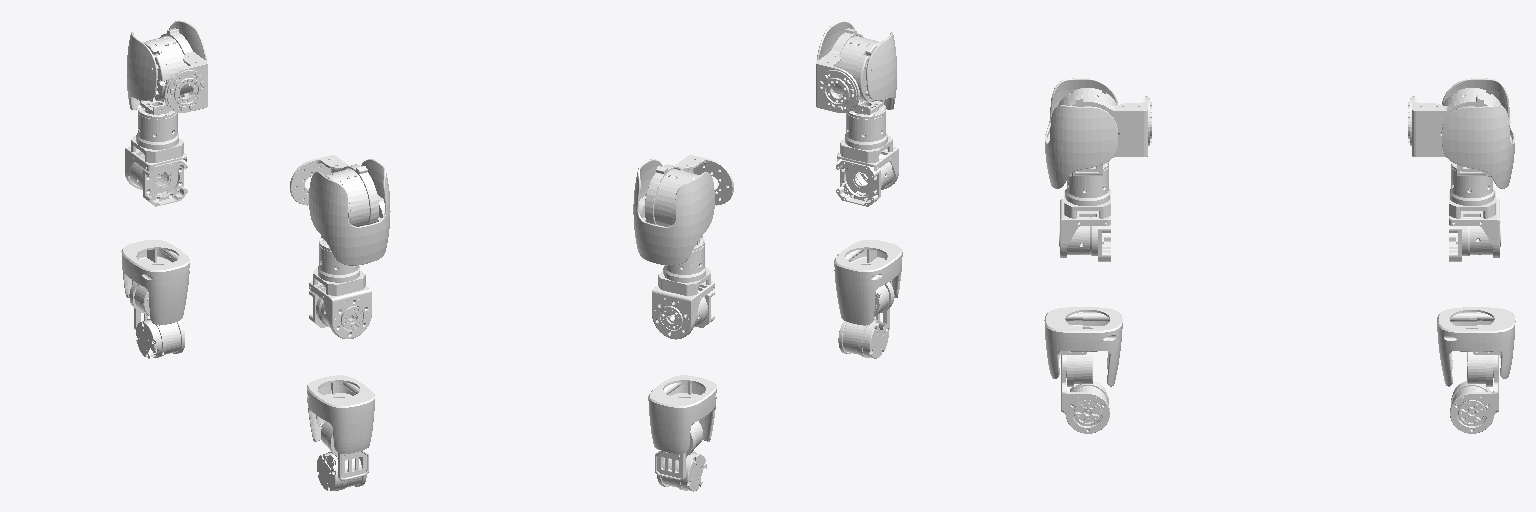
robot.urdf — biped_v3:
<?xml version='1.0' encoding='UTF-8'?>
<!-- This URDF was automatically created by SolidWorks to URDF Exporter! Originally created by [author] ([email redacted]) 
     Commit Version: 1.6.0-4-g7f85cfe  Build Version: 1.6.7995.38578
     For more information, please see http://wiki.ros.org/sw_urdf_exporter -->
<robot name="biped_v3">
  <link name="torso">
    <inertial>
      <origin xyz="-0.00699293960383802 0.00155633220268026 0.152865943474551" rpy="0 0 0"/>
      <mass value="7.71324827879796"/>
      <inertia ixx="0.0426865291658434" ixy="1.85724164379468E-06" ixz="0.0010941107421191" iyy="0.020412125396821" iyz="-3.14875771284261E-06" izz="0.0372747742844986"/>
    </inertial>
    <visual>
      <origin xyz="0 0 0" rpy="0 0 0"/>
      <geometry>
        <mesh filename="../meshes/base_link.obj"/>
      </geometry>
      <material name="">
        <color rgba="0.862745098039216 0.933333333333333 0.929411764705882 1"/>
      </material>
    </visual>
  </link>
 
  <link
    name="l_arm_pitch">
    <inertial>
      <origin
        xyz="0.0146835191418715 -0.0166604103758634 -6.82857133371129E-05"
        rpy="0 0 0" />
      <mass
        value="0.165847319965906" />
      <inertia
        ixx="0.0002674432873971"
        ixy="-2.5654089149164E-05"
        ixz="-1.72966133127553E-07"
        iyy="0.000125796784291983"
        iyz="-1.66717296343013E-06"
        izz="0.000196186976742156" />
    </inertial>
    <visual>
      <origin
        xyz="0 0 0"
        rpy="0 0 0" />
      <geometry>
        <mesh
          filename="../meshes/l_arm_pitch.obj" />
      </geometry>
      <material
        name="">
        <color
          rgba="1 1 1 1" />
      </material>
    </visual>
    
  </link>
  <joint
    name="l_arm_pitch"
    type="continuous">
    <origin
      xyz="-0.0175475823124921 0.254700000000031 0.324500000000024"
      rpy="0 0 0" />
    <parent
      link="torso" />
    <child
      link="l_arm_pitch" />
    <axis
      xyz="0 1 0" />
    <limit lower="-3.14" upper="0.52" effort="100" velocity="35" />

  </joint>
  <transmission type="SimpleTransmission">
    <joint name="l_arm_pitch" />
    <actuator name="l_arm_pitch_motor" />
  </transmission>

  <link
    name="l_arm_roll">
    <inertial>
      <origin
        xyz="0.0222872651779299 0.0156945544195473 -0.0202262244341484"
        rpy="0 0 0" />
      <mass
        value="0.141426581413056" />
      <inertia
        ixx="0.000160370067223081"
        ixy="6.30811840859269E-06"
        ixz="-1.13259246453495E-05"
        iyy="0.000262365778589962"
        iyz="3.14941259087024E-05"
        izz="0.00023601403628197" />
    </inertial>
    <visual>
      <origin
        xyz="0 0 0"
        rpy="0 0 0" />
      <geometry>
        <mesh
          filename="../meshes/l_arm_roll.obj" />
      </geometry>
      <material
        name="">
        <color
          rgba="1 1 1 1" />
      </material>
    </visual>
   
  </link>
  <joint
    name="l_arm_roll"
    type="continuous">
    <origin
      xyz="0 0 0"
      rpy="0 0 0" />
    <parent
      link="l_arm_pitch" />
    <child
      link="l_arm_roll" />
    <axis
      xyz="1 0 0" />
        <limit lower="-0.523" upper="2.09" effort="100" velocity="35" />

  </joint>
  <transmission type="SimpleTransmission">
    <joint name="l_arm_roll" />
    <actuator name="l_arm_roll_motor" />
  </transmission>

  <link
    name="l_arm_yaw">
    <inertial>
      <origin
        xyz="6.16940440451783E-05 0.00525815062784063 -0.128821944854616"
        rpy="0 0 0" />
      <mass
        value="0.147794102819133" />
      <inertia
        ixx="7.00575957554699E-05"
        ixy="-6.81658291272877E-10"
        ixz="2.69427050743199E-10"
        iyy="8.53612265336777E-05"
        iyz="6.95899873075699E-06"
        izz="8.82223899453285E-05" />
    </inertial>
    <visual>
      <origin
        xyz="0 0 0"
        rpy="0 0 0" />
      <geometry>
        <mesh
          filename="../meshes/l_arm_yaw.obj" />
      </geometry>
      <material
        name="">
        <color
          rgba="1 1 1 1" />
      </material>
    </visual>
    
  </link>
  <joint
    name="l_arm_yaw"
    type="continuous">
    <origin
      xyz="0 0 0"
      rpy="0 0 0" />
    <parent
      link="l_arm_roll" />
    <child
      link="l_arm_yaw" />
    <axis
      xyz="0 0 1" />
        <limit lower="-1.57" upper="1.57" effort="100" velocity="35" />

  </joint>
  <transmission type="SimpleTransmission">
    <joint name="l_arm_yaw" />
    <actuator name="l_arm_yaw_motor" />
  </transmission>

  <link
    name="l_forearm_pitch">
    <inertial>
      <origin
        xyz="-1.4281929799409E-05 0.00938313949959718 -0.0522687552263489"
        rpy="0 0 0" />
      <mass
        value="0.170164726102009" />
      <inertia
        ixx="9.558084476069E-05"
        ixy="-4.53863490387433E-08"
        ixz="5.39342118513253E-08"
        iyy="0.000126326373178391"
        iyz="-9.58160032696958E-06"
        izz="0.000121032474884238" />
    </inertial>
    <visual>
      <origin
        xyz="0 0 0"
        rpy="0 0 0" />
      <geometry>
        <mesh
          filename="../meshes/l_forearm_pitch.obj" />
      </geometry>
      <material
        name="">
        <color
          rgba="1 1 1 1" />
      </material>
    </visual>
    
  </link>
  <joint
    name="l_forearm_pitch"
    type="continuous">
    <origin
      xyz="0 0 -0.1636"
      rpy="0 0 0" />
    <parent
      link="l_arm_yaw" />
    <child
      link="l_forearm_pitch" />
    <axis
      xyz="0 1 0" />
          <limit lower="-1.57" upper="0.0" effort="100" velocity="35" />

  </joint>
  <transmission type="SimpleTransmission">
    <joint name="l_forearm_pitch" />
    <actuator name="l_forearm_pitch_motor" />
  </transmission>

  <link
    name="l_hand_yaw">
    <inertial>
      <origin
        xyz="0.000113133463122583 0.00969227839919062 0.0817960696431681"
        rpy="0 0 0" />
      <mass
        value="0.157336288737043" />
      <inertia
        ixx="7.64923984145487E-05"
        ixy="8.51098127601464E-09"
        ixz="-1.4070355859132E-08"
        iyy="0.000122231132554914"
        iyz="1.11226968994633E-06"
        izz="8.44935061342021E-05" />
    </inertial>
    <visual>
      <origin
        xyz="0 0 0"
        rpy="0 0 0" />
      <geometry>
        <mesh
          filename="../meshes/l_hand_yaw.obj" />
      </geometry>
      <material
        name="">
        <color
          rgba="1 1 1 1" />
      </material>
    </visual>
   
  </link>
  <joint
    name="l_hand_yaw"
    type="continuous">
    <origin
      xyz="0 0 -0.191050000125729"
      rpy="0 0 0" />
    <parent
      link="l_forearm_pitch" />
    <child
      link="l_hand_yaw" />
    <axis
      xyz="0 0 1" />
          <limit lower="-1.57" upper="1.57" effort="100" velocity="35" />

  </joint>
  <transmission type="SimpleTransmission">
    <joint name="l_hand_yaw" />
    <actuator name="l_hand_yaw_motor" />
  </transmission>

  <link
    name="l_hand_pitch">
    <inertial>
      <origin
        xyz="0.00810609786663821 0.00489663150092601 0.00622488608908427"
        rpy="0 0 0" />
      <mass
        value="0.0853891779246004" />
      <inertia
        ixx="4.77321490368476E-05"
        ixy="3.05261917457107E-06"
        ixz="4.77827164947654E-06"
        iyy="3.43814769749139E-05"
        iyz="-4.59311499587155E-06"
        izz="2.49955336560135E-05" />
    </inertial>
    <visual>
      <origin
        xyz="0 0 0"
        rpy="0 0 0" />
      <geometry>
        <mesh
          filename="../meshes/l_hand_pitch.obj" />
      </geometry>
      <material
        name="">
        <color
          rgba="1 1 1 1" />
      </material>
    </visual>
    
  </link>
  <joint
    name="l_hand_pitch"
    type="continuous">
    <origin
      xyz="0 0 0"
      rpy="0 0 0" />
    <parent
      link="l_hand_yaw" />
    <child
      link="l_hand_pitch" />
    <axis
      xyz="0 1 0" />
          <limit lower="-1.57" upper="1.57" effort="100" velocity="35" />

  </joint>
  <transmission type="SimpleTransmission">
    <joint name="l_hand_pitch" />
    <actuator name="l_hand_pitch_motor" />
  </transmission>

  <link
    name="l_hand_roll">
    <inertial>
      <origin
        xyz="0.0055750097939089 0.00647363667890594 -0.0826245715087526"
        rpy="0 0 0" />
      <mass
        value="0.505839717252105" />
      <inertia
        ixx="8.04371746531483E-05"
        ixy="2.770174858381E-07"
        ixz="-4.63354764745673E-06"
        iyy="0.000116536814280971"
        iyz="1.04534418501281E-05"
        izz="0.000111690600253046" />
    </inertial>
    <visual>
      <origin
        xyz="0 0 0"
        rpy="0 0 0" />
      <geometry>
        <mesh
          filename="../meshes/l_hand_roll.obj" />
      </geometry>
      <material
        name="">
        <color
          rgba="1 1 1 1" />
      </material>
    </visual>
   
  </link>
  <joint
    name="l_hand_roll"
    type="continuous">
    <origin
      xyz="0 0 0"
      rpy="0 0 0" />
    <parent
      link="l_hand_pitch" />
    <child
      link="l_hand_roll" />
    <axis
      xyz="1 0 0" />
          <limit lower="-1.57" upper="1.57" effort="100" velocity="35" />

  </joint>
  <transmission type="SimpleTransmission">
    <joint name="l_hand_roll" />
    <actuator name="l_hand_roll_motor" />
  </transmission>

  <link
    name="r_arm_pitch">
    <inertial>
      <origin
        xyz="0.0146743511434554 0.0168298008224051 -8.16711977456031E-05"
        rpy="0 0 0" />
      <mass
        value="0.165729466195453" />
      <inertia
        ixx="0.000267364314112701"
        ixy="2.58822573731612E-05"
        ixz="-1.74450019197634E-07"
        iyy="0.000125724274127356"
        iyz="1.71810516637517E-06"
        izz="0.000196179895851995" />
    </inertial>
    <visual>
      <origin
        xyz="0 0 0"
        rpy="0 0 0" />
      <geometry>
        <mesh
          filename="../meshes/r_arm_pitch.obj" />
      </geometry>
      <material
        name="">
        <color
          rgba="1 1 1 1" />
      </material>
    </visual>
   
  </link>
  <joint
    name="r_arm_pitch"
    type="continuous">
    <origin
      xyz="-0.0175475823119764 -0.254700000000003 0.324500000000024"
      rpy="0 0 0" />
    <parent
      link="torso" />
    <child
      link="r_arm_pitch" />
    <axis
      xyz="0 1 0" />
          <limit lower="-3.14" upper="0.52" effort="100" velocity="35" />

  </joint>
  <transmission type="SimpleTransmission">
    <joint name="r_arm_pitch" />
    <actuator name="r_arm_pitch_motor" />
  </transmission>

  <link
    name="r_arm_roll">
    <inertial>
      <origin
        xyz="0.0223009070030529 -0.0156950170482436 -0.0202307747650334"
        rpy="0 0 0" />
      <mass
        value="0.141493827304592" />
      <inertia
        ixx="0.00016058853411588"
        ixy="-6.25733649402466E-06"
        ixz="-1.13236198708706E-05"
        iyy="0.000262566981542989"
        iyz="-3.14930415013909E-05"
        izz="0.000236151535262186" />
    </inertial>
    <visual>
      <origin
        xyz="0 0 0"
        rpy="0 0 0" />
      <geometry>
        <mesh
          filename="../meshes/r_arm_roll.obj" />
      </geometry>
      <material
        name="">
        <color
          rgba="1 1 1 1" />
      </material>
    </visual>
   
  </link>
  <joint
    name="r_arm_roll"
    type="continuous">
    <origin
      xyz="0 0 0"
      rpy="0 0 0" />
    <parent
      link="r_arm_pitch" />
    <child
      link="r_arm_roll" />
    <axis
      xyz="1 0 0" />
          <limit lower="-2.09" upper="0.523" effort="100" velocity="35" />

  </joint>
  <transmission type="SimpleTransmission">
    <joint name="r_arm_roll" />
    <actuator name="r_arm_roll_motor" />
  </transmission>

  <link
    name="r_arm_yaw">
    <inertial>
      <origin
        xyz="-4.82749435400213E-05 -0.0052581506278393 -0.128821944854617"
        rpy="0 0 0" />
      <mass
        value="0.147794102819133" />
      <inertia
        ixx="7.00575957554697E-05"
        ixy="-6.81658260938682E-10"
        ixz="-2.69427064597612E-10"
        iyy="8.53612265336775E-05"
        iyz="-6.95899873075696E-06"
        izz="8.82223899453284E-05" />
    </inertial>
    <visual>
      <origin
        xyz="0 0 0"
        rpy="0 0 0" />
      <geometry>
        <mesh
          filename="../meshes/r_arm_yaw.obj" />
      </geometry>
      <material
        name="">
        <color
          rgba="1 1 1 1" />
      </material>
    </visual>
    
  </link>
  <joint
    name="r_arm_yaw"
    type="continuous">
    <origin
      xyz="0 0 0"
      rpy="0 0 0" />
    <parent
      link="r_arm_roll" />
    <child
      link="r_arm_yaw" />
    <axis
      xyz="0 0 1" />
          <limit lower="-1.57" upper="1.57" effort="100" velocity="35" />

  </joint>
  <transmission type="SimpleTransmission">
    <joint name="r_arm_yaw" />
    <actuator name="r_arm_yaw_motor" />
  </transmission>

  <link
    name="r_forearm_pitch">
    <inertial>
      <origin
        xyz="-0.000127232990745116 -0.00951602649232586 -0.0522687552263488"
        rpy="0 0 0" />
      <mass
        value="0.170164726102011" />
      <inertia
        ixx="9.55808447606916E-05"
        ixy="-4.53863489774233E-08"
        ixz="-5.41060583443891E-08"
        iyy="0.000126326373178394"
        iyz="9.40982665987077E-06"
        izz="0.00012103247488424" />
    </inertial>
    <visual>
      <origin
        xyz="0 0 0"
        rpy="0 0 0" />
      <geometry>
        <mesh
          filename="../meshes/r_forearm_pitch.obj" />
      </geometry>
      <material
        name="">
        <color
          rgba="1 1 1 1" />
      </material>
    </visual>
   
  </link>
  <joint
    name="r_forearm_pitch"
    type="continuous">
    <origin
      xyz="0 0 -0.1636"
      rpy="0 0 0" />
    <parent
      link="r_arm_yaw" />
    <child
      link="r_forearm_pitch" />
    <axis
      xyz="0 1 0" />
          <limit lower="-1.57" upper="0.0" effort="100" velocity="35" />

  </joint>
  <transmission type="SimpleTransmission">
    <joint name="r_forearm_pitch" />
    <actuator name="r_forearm_pitch_motor" />
  </transmission>

  <link
    name="r_hand_yaw">
    <inertial>
      <origin
        xyz="-0.000113133331993445 -0.0097448351680483 0.0817960724173413"
        rpy="0 0 0" />
      <mass
        value="0.157336288734482" />
      <inertia
        ixx="7.64923982725728E-05"
        ixy="8.51115986496426E-09"
        ixz="1.40703608309957E-08"
        iyy="0.000122231132626729"
        iyz="-1.11226978982942E-06"
        izz="8.44935061081861E-05" />
    </inertial>
    <visual>
      <origin
        xyz="0 0 0"
        rpy="0 0 0" />
      <geometry>
        <mesh
          filename="../meshes/r_hand_yaw.obj" />
      </geometry>
      <material
        name="">
        <color
          rgba="1 1 1 1" />
      </material>
    </visual>

  </link>
  <joint
    name="r_hand_yaw"
    type="continuous">
    <origin
      xyz="0 0 -0.191050000125729"
      rpy="0 0 0" />
    <parent
      link="r_forearm_pitch" />
    <child
      link="r_hand_yaw" />
    <axis
      xyz="0 0 1" />
          <limit lower="-1.57" upper="1.57" effort="100" velocity="35" />

  </joint>
  <transmission type="SimpleTransmission">
    <joint name="r_hand_yaw" />
    <actuator name="r_hand_yaw_motor" />
  </transmission>

  <link
    name="r_hand_pitch">
    <inertial>
      <origin
        xyz="0.00735986990228184 -0.0047523802551166 0.00605888061339196"
        rpy="0 0 0" />
      <mass
        value="0.0853891534309893" />
      <inertia
        ixx="4.77321358097824E-05"
        ixy="-2.99709432812988E-06"
        ixz="4.71488437974188E-06"
        iyy="3.42470226388499E-05"
        iyz="4.61094199971347E-06"
        izz="2.51299600072388E-05" />
    </inertial>
    <visual>
      <origin
        xyz="0 0 0"
        rpy="0 0 0" />
      <geometry>
        <mesh
          filename="../meshes/r_hand_pitch.obj" />
      </geometry>
      <material
        name="">
        <color
          rgba="1 1 1 1" />
      </material>
    </visual>

  </link>
  <joint
    name="r_hand_pitch"
    type="continuous">
    <origin
      xyz="0 0 0"
      rpy="0 0 0" />
    <parent
      link="r_hand_yaw" />
    <child
      link="r_hand_pitch" />
    <axis
      xyz="0 1 0" />
          <limit lower="-1.57" upper="1.57" effort="100" velocity="35" />

  </joint>
  <transmission type="SimpleTransmission">
    <joint name="r_hand_pitch" />
    <actuator name="r_hand_pitch_motor" />
  </transmission>

  <link
    name="r_hand_roll">
    <inertial>
      <origin
        xyz="0.0045944493552252 -0.00586927010446042 -0.0836324643988434"
        rpy="0 0 0" />
      <mass
        value="0.505839717252105" />
      <inertia
        ixx="0.000160651543151659"
        ixy="-5.37963063503334E-07"
        ixz="-9.47669219939636E-06"
        iyy="0.000229393712149694"
        iyz="-2.08351527945055E-05"
        izz="0.000219277776699058" />
    </inertial>
    <visual>
      <origin
        xyz="0 0 0"
        rpy="0 0 0" />
      <geometry>
        <mesh
          filename="../meshes/r_hand_roll.obj" />
      </geometry>
      <material
        name="">
        <color
          rgba="1 1 1 1" />
      </material>
    </visual>
  </link>
  <joint
    name="r_hand_roll"
    type="continuous">
    <origin
      xyz="0 0 0"
      rpy="0 0 0" />
    <parent
      link="r_hand_pitch" />
    <child
      link="r_hand_roll" />
    <axis
      xyz="1 0 0" />
          <limit lower="-1.57" upper="1.57" effort="100" velocity="35" />

  </joint>
  <transmission type="SimpleTransmission">
    <joint name="r_hand_roll" />
    <actuator name="r_hand_roll_motor" />
  </transmission>

</robot>

--- Render facts (derived) ---
The picture shows the robot from 3 angles, left to right: view 1: azimuth 30°, elevation 25°; view 2: azimuth 150°, elevation 25°; view 3: azimuth 270°, elevation 25°; orthographic projection.
Model biped_v3 with 15 links and 14 joints (14 continuous), rooted at torso, posed all joints at 0.
Links seen in each view (by area): view 1: r_arm_roll, l_hand_yaw, l_arm_yaw, r_hand_yaw, r_arm_yaw, l_arm_pitch, r_arm_pitch, l_arm_roll, r_hand_pitch, l_hand_pitch; view 2: l_arm_roll, r_hand_yaw, r_arm_yaw, l_hand_yaw, l_arm_yaw, r_arm_pitch, l_arm_pitch, r_arm_roll, r_hand_pitch, l_hand_pitch; view 3: r_arm_roll, l_arm_roll, l_hand_yaw, r_hand_yaw, l_arm_yaw, r_arm_yaw, l_arm_pitch, r_arm_pitch, l_hand_pitch, r_hand_pitch.
Boxes of the visible links, bbox=[...] form: r_arm_roll: bbox=[309, 159, 390, 265]; l_hand_yaw: bbox=[121, 240, 189, 325]; l_arm_yaw: bbox=[125, 105, 187, 206]; r_hand_yaw: bbox=[307, 375, 374, 456]; r_arm_yaw: bbox=[309, 238, 371, 338]; l_arm_pitch: bbox=[143, 28, 207, 112]; r_arm_pitch: bbox=[290, 155, 378, 226]; l_arm_roll: bbox=[127, 20, 206, 114]; r_hand_pitch: bbox=[317, 451, 368, 490]; l_hand_pitch: bbox=[134, 308, 184, 358]; l_arm_roll: bbox=[633, 159, 714, 265]; r_hand_yaw: bbox=[834, 240, 902, 325]; r_arm_yaw: bbox=[836, 105, 898, 206]; l_hand_yaw: bbox=[648, 375, 716, 456]; l_arm_yaw: bbox=[652, 238, 714, 339]; r_arm_pitch: bbox=[816, 28, 880, 112]; l_arm_pitch: bbox=[645, 155, 733, 226]; r_arm_roll: bbox=[817, 20, 896, 114]; r_hand_pitch: bbox=[838, 308, 889, 358]; l_hand_pitch: bbox=[655, 451, 706, 491]; r_arm_roll: bbox=[1045, 78, 1117, 188]; l_arm_roll: bbox=[1442, 78, 1514, 188]; l_hand_yaw: bbox=[1437, 307, 1515, 386]; r_hand_yaw: bbox=[1044, 307, 1122, 386]; l_arm_yaw: bbox=[1449, 162, 1500, 261]; r_arm_yaw: bbox=[1059, 162, 1110, 261]; l_arm_pitch: bbox=[1408, 88, 1501, 157]; r_arm_pitch: bbox=[1058, 88, 1151, 157]; l_hand_pitch: bbox=[1450, 355, 1498, 433]; r_hand_pitch: bbox=[1061, 355, 1109, 433].
Bounding box of the posed robot: 0.1088 × 0.6244 × 0.4947 m (x, y, z).
Meshes: 15 distinct files referenced, 10 mesh visuals loaded (10 OBJ); not drawn: 5 (reference not matched to a file when rendering).